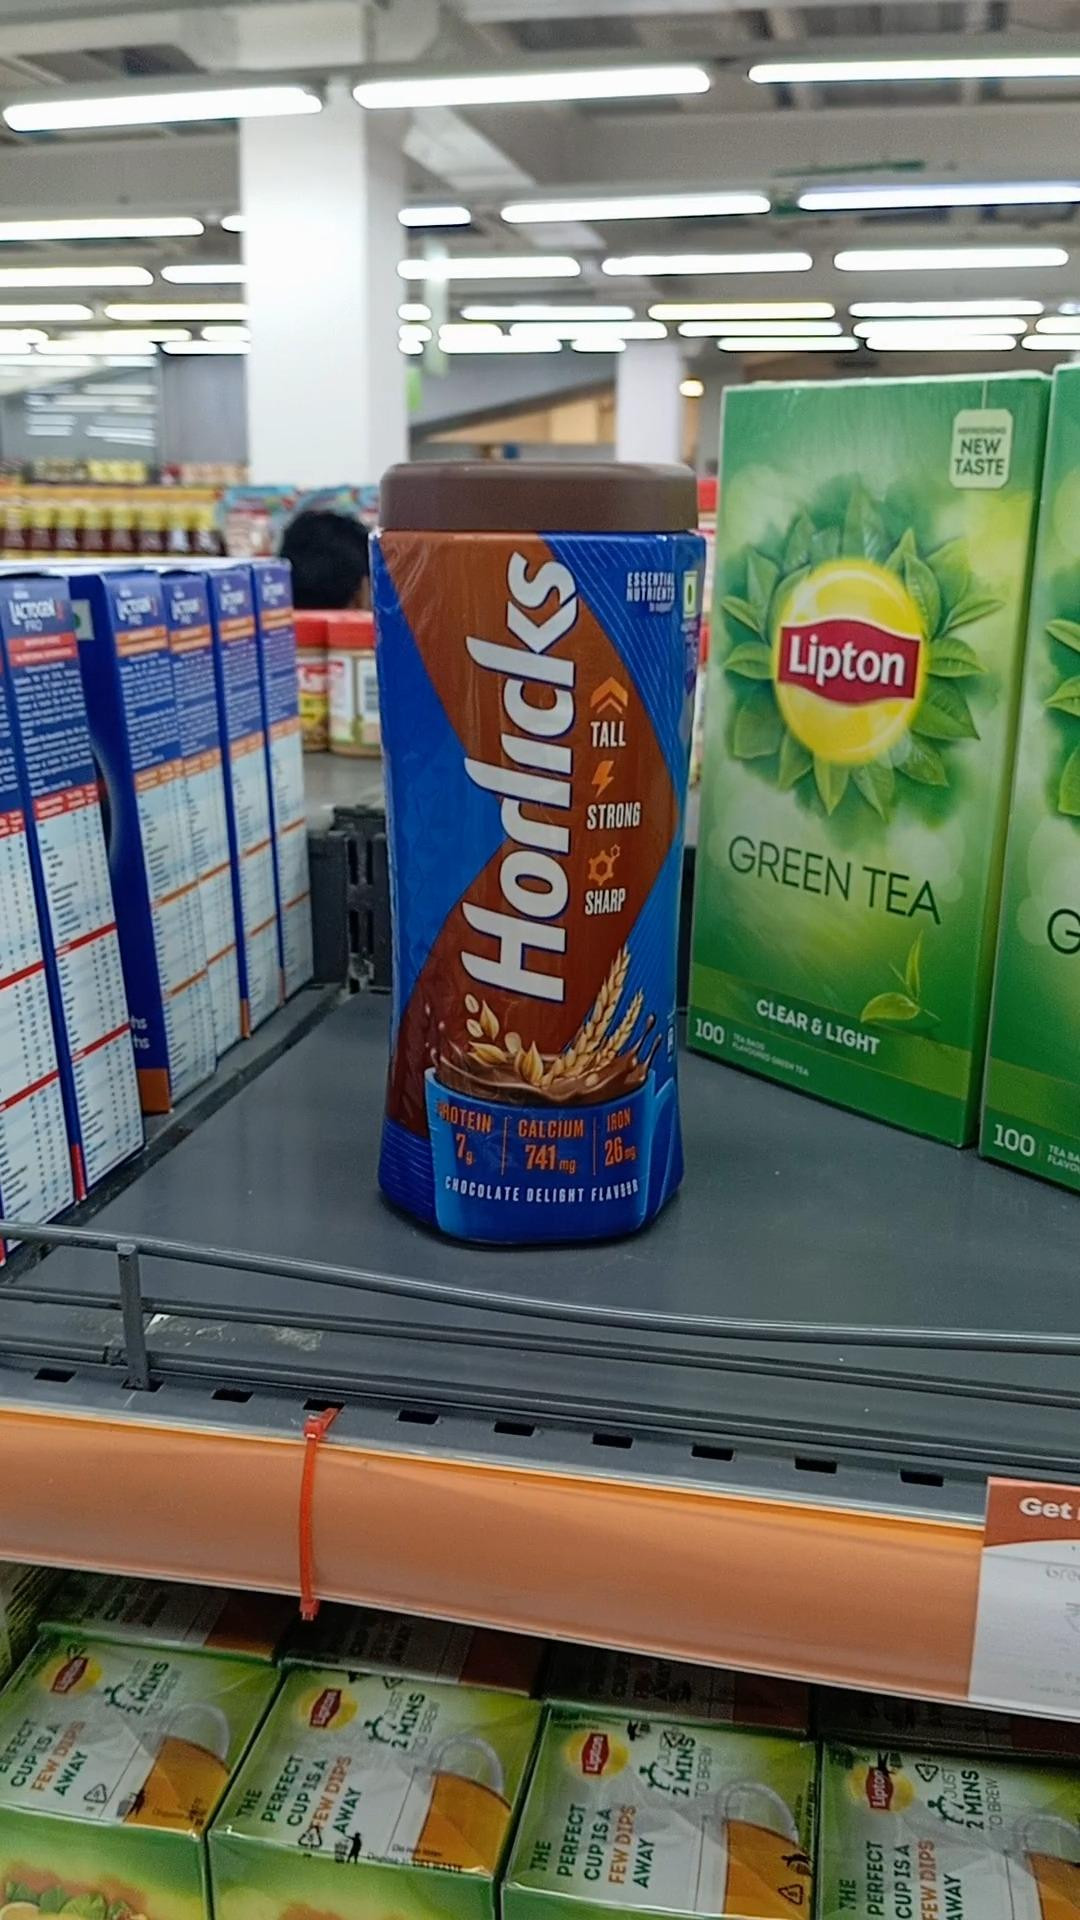HORLICK_CHOCOLATE_1_KG_JAR: (380, 459, 703, 1262)
